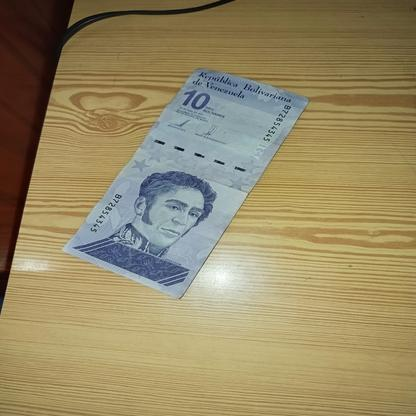ten-front-vef: (61, 66, 310, 298)
